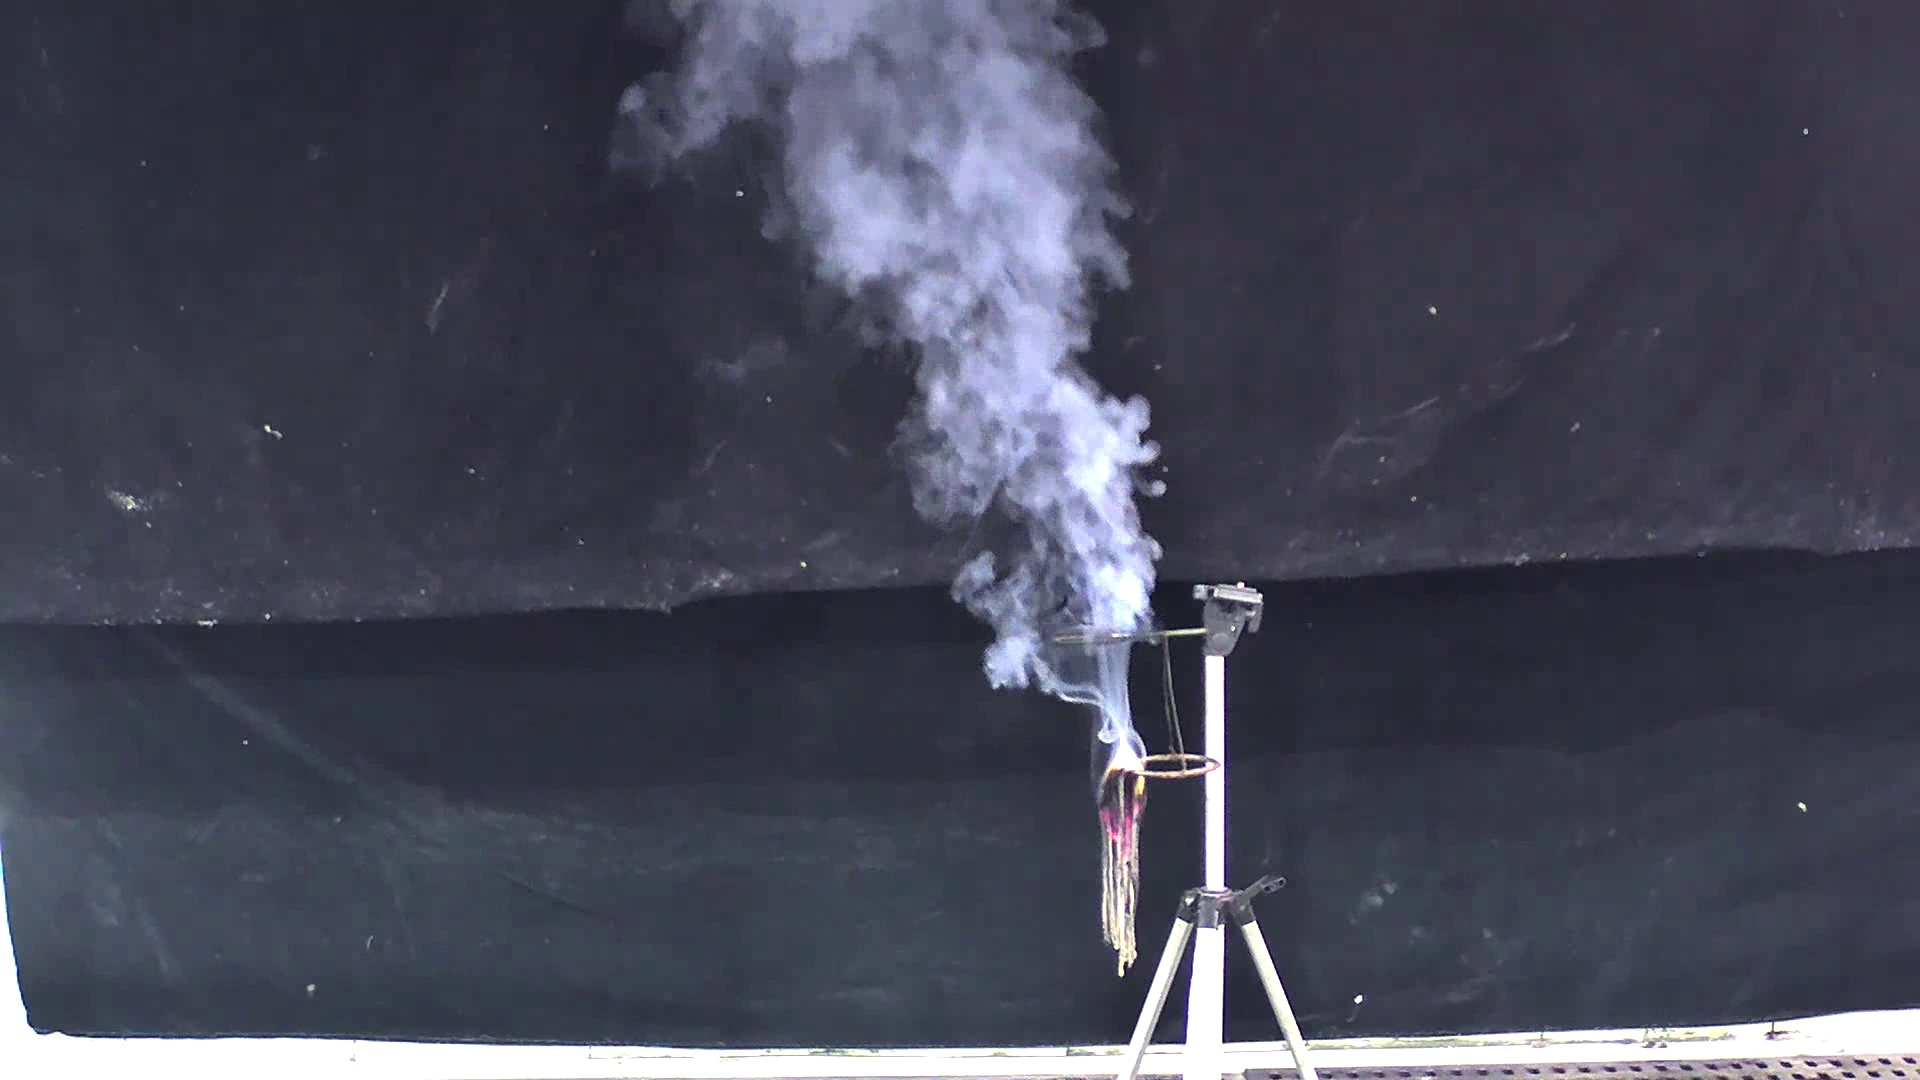smoke: (626, 20, 1179, 760)
